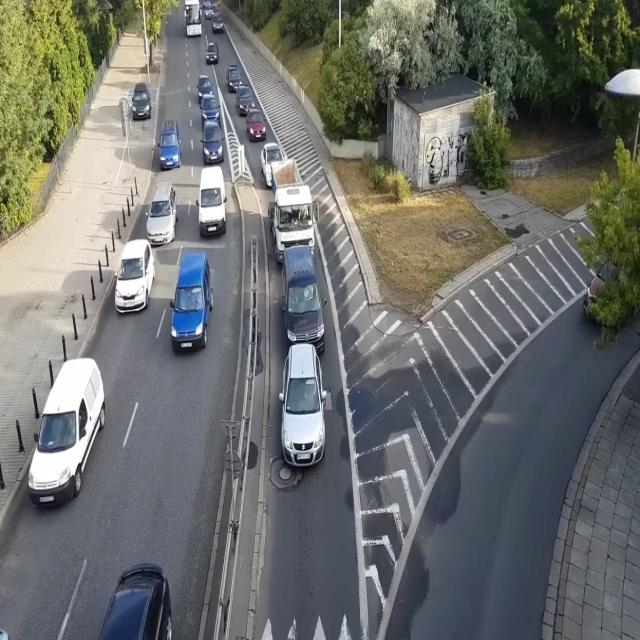bus: (182, 0, 203, 39)
car: (276, 344, 327, 470), (92, 564, 173, 640), (581, 253, 640, 331), (113, 237, 155, 312), (144, 182, 178, 246), (259, 141, 288, 189), (200, 123, 224, 164), (131, 82, 153, 123), (200, 92, 221, 128), (246, 106, 266, 142), (236, 85, 256, 118), (196, 74, 214, 104), (226, 65, 243, 92), (211, 12, 224, 36), (206, 42, 218, 66), (0, 623, 13, 640), (205, 4, 214, 20), (201, 0, 212, 6)
truck: (267, 159, 319, 268)
van: (26, 353, 108, 509), (280, 247, 327, 361), (170, 252, 213, 354), (196, 165, 228, 240), (157, 119, 182, 170)
